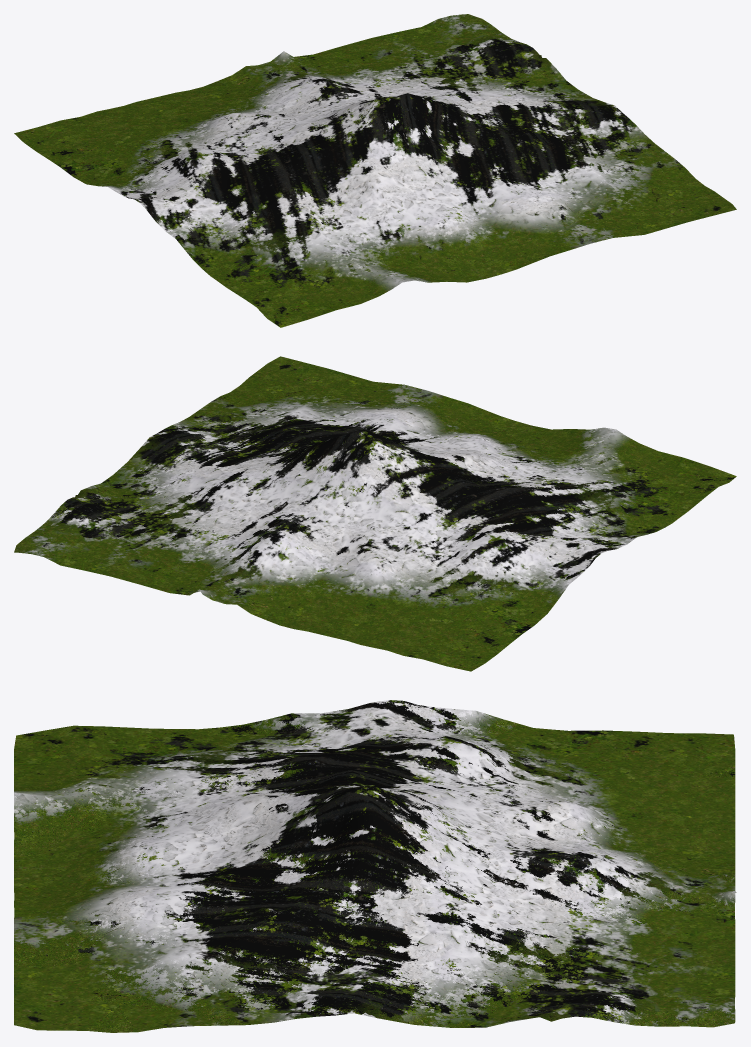
The model's file is Prop_Mountain.fbx.
3 views of the same model, one above another, from view 1: azimuth 30°, elevation 25°; view 2: azimuth 150°, elevation 25°; view 3: azimuth 270°, elevation 25° (orthographic). The views are drawn at different scales.
Visible parts, largest first — view 1: Prop_Mountain; view 2: Prop_Mountain; view 3: Prop_Mountain.
Boxes of the visible parts, x1,y1,x2,y2 form: Prop_Mountain: (14, 14, 736, 327); Prop_Mountain: (14, 356, 736, 671); Prop_Mountain: (14, 700, 736, 1032).
Size of the model in its own units: 6901 by 1108 by 6917.
